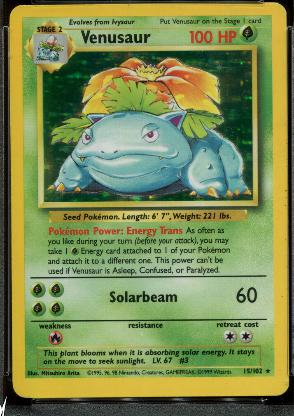Card: (8, 3, 290, 398)
Scratch: (212, 61, 251, 71)
